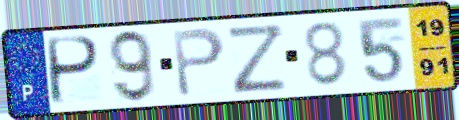5: (354, 14, 409, 85)
8: (301, 20, 348, 88)
9: (106, 28, 157, 105)
P: (170, 25, 228, 99), (47, 34, 103, 108)
Z: (225, 21, 290, 96)
